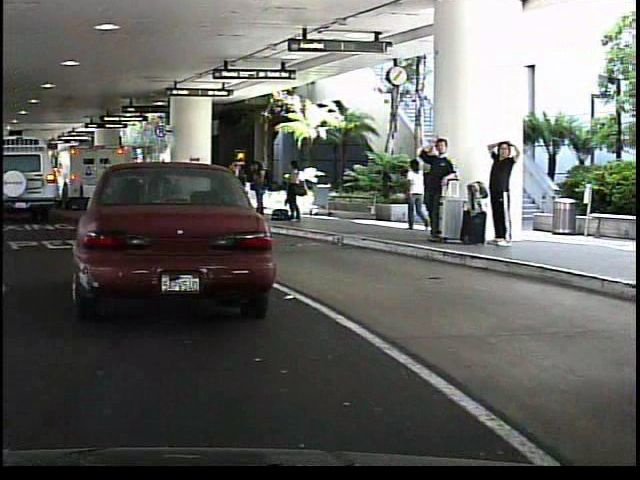person: (413, 134, 457, 245), (484, 130, 522, 245), (403, 154, 425, 234), (281, 156, 307, 223)
